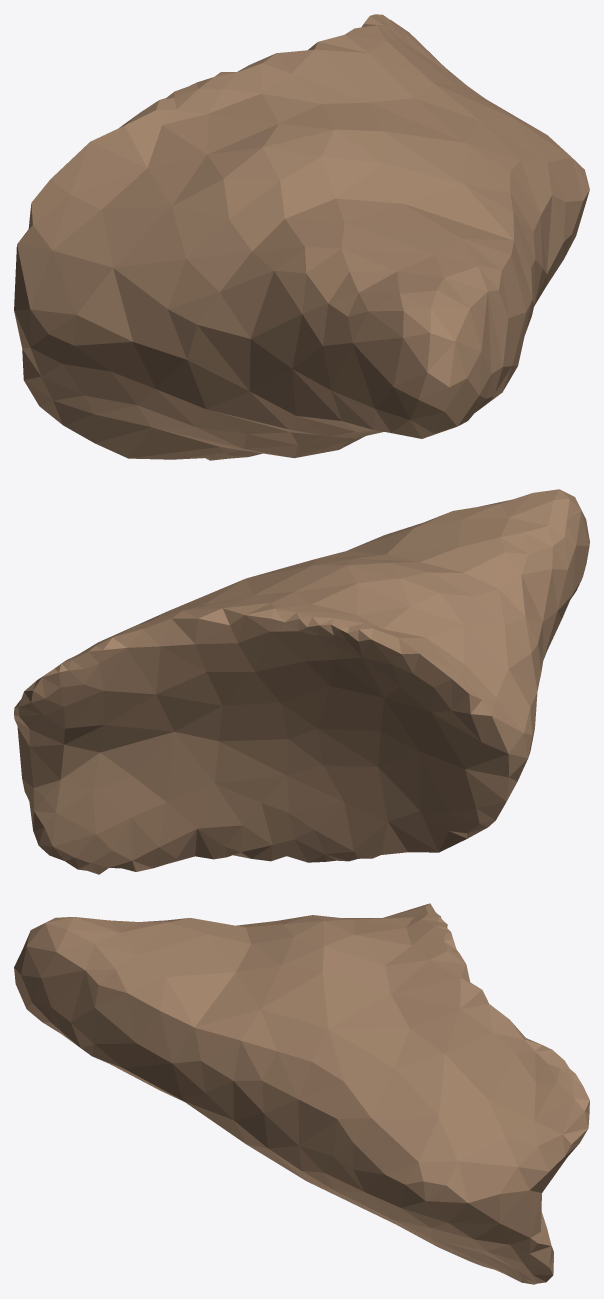
File: adrenal_gland_deformable.obj
3 renders of one model, top to bottom at view 1: azimuth 30°, elevation 25°; view 2: azimuth 150°, elevation 25°; view 3: azimuth 270°, elevation 25°, orthographic. The views are drawn at different scales.
Visible parts, largest first — view 1: adrenal_gland_deformable_New_orgam.001; view 2: adrenal_gland_deformable_New_orgam.001; view 3: adrenal_gland_deformable_New_orgam.001.
Boxes of the visible parts, x1,y1,x2,y2 form: adrenal_gland_deformable_New_orgam.001: (14,14,589,460); adrenal_gland_deformable_New_orgam.001: (14,489,589,874); adrenal_gland_deformable_New_orgam.001: (14,903,589,1284).
Size of the model in its own units: 2.3 by 1.34 by 2.62.
